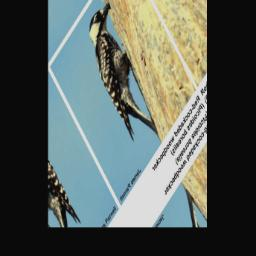Woodpecker: (77, 0, 170, 163)
